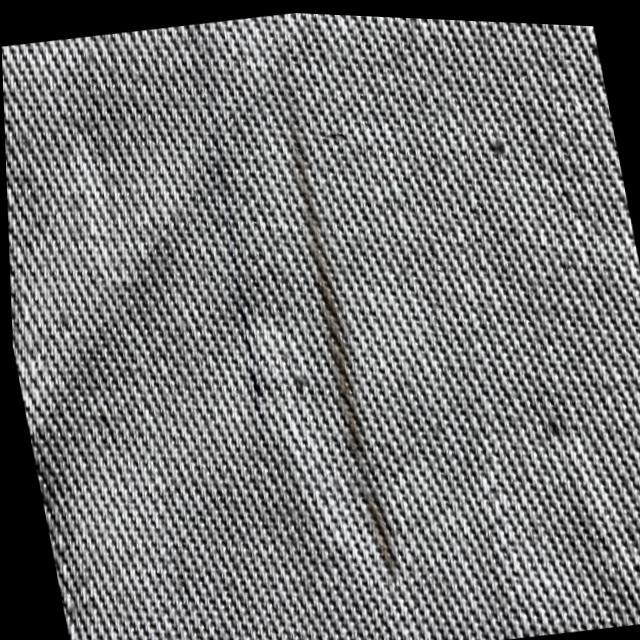Hole: (218, 244, 263, 402)
